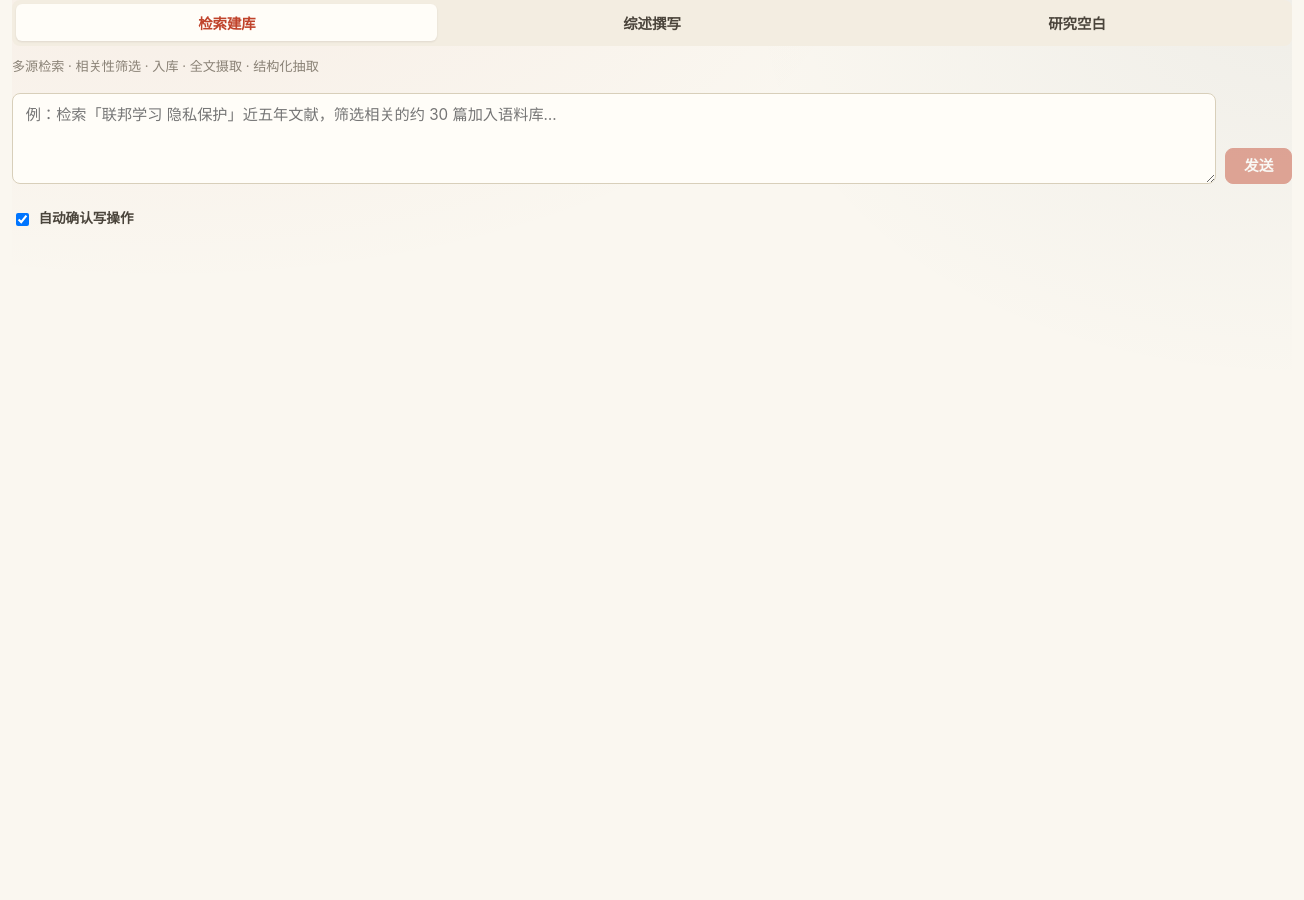
Test: AgentChat + RunTimeline › 提交后渲染运行开始卡片
The width and height of the screenshot is (1304, 900).
Type "分析 SLR 文献" into the text box named "Agent 指令输入" at (614, 138), box x1=12 y1=92 x2=1216 y2=184
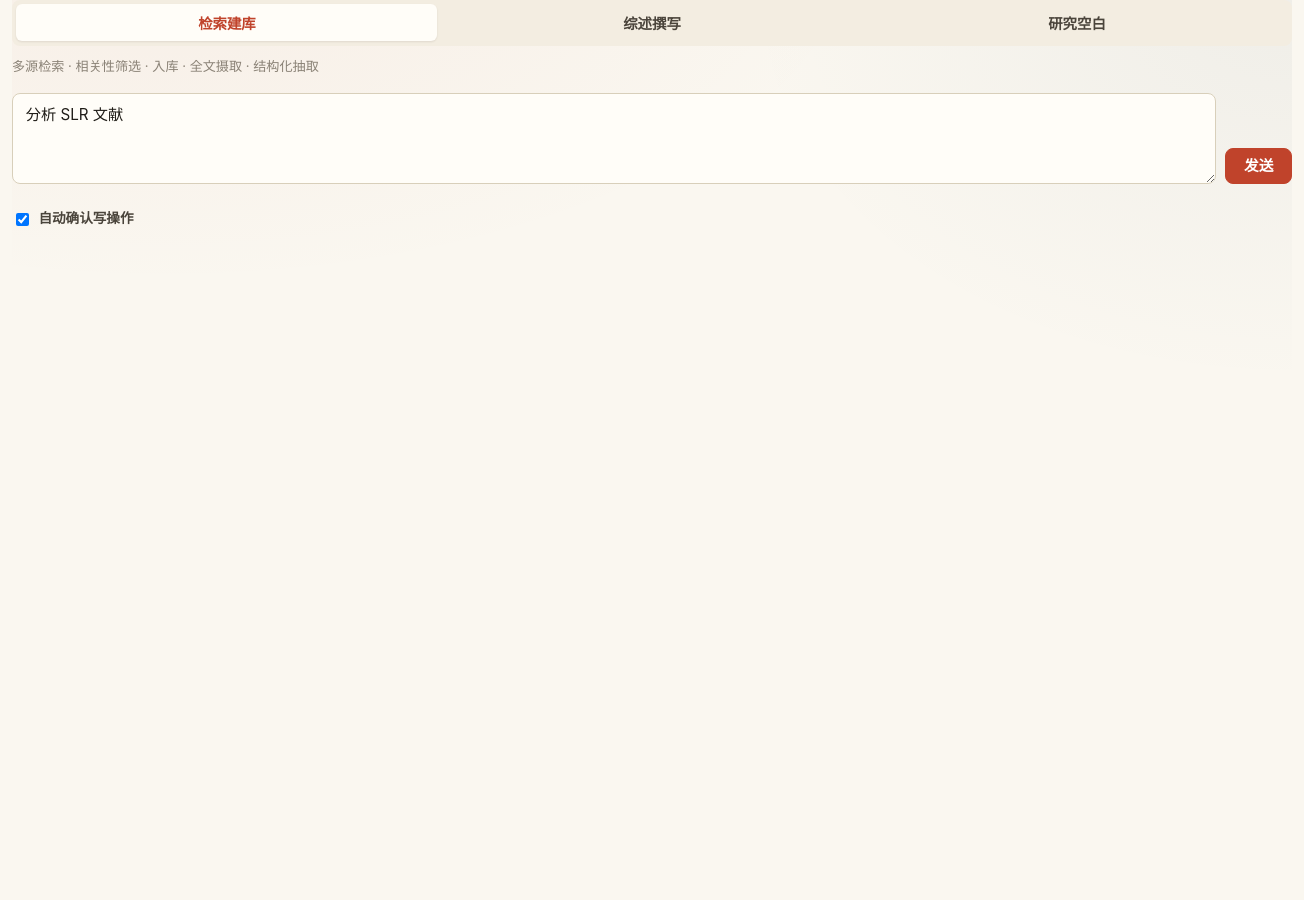
Click the button "发送" at (1259, 166), box x1=1225 y1=148 x2=1292 y2=184
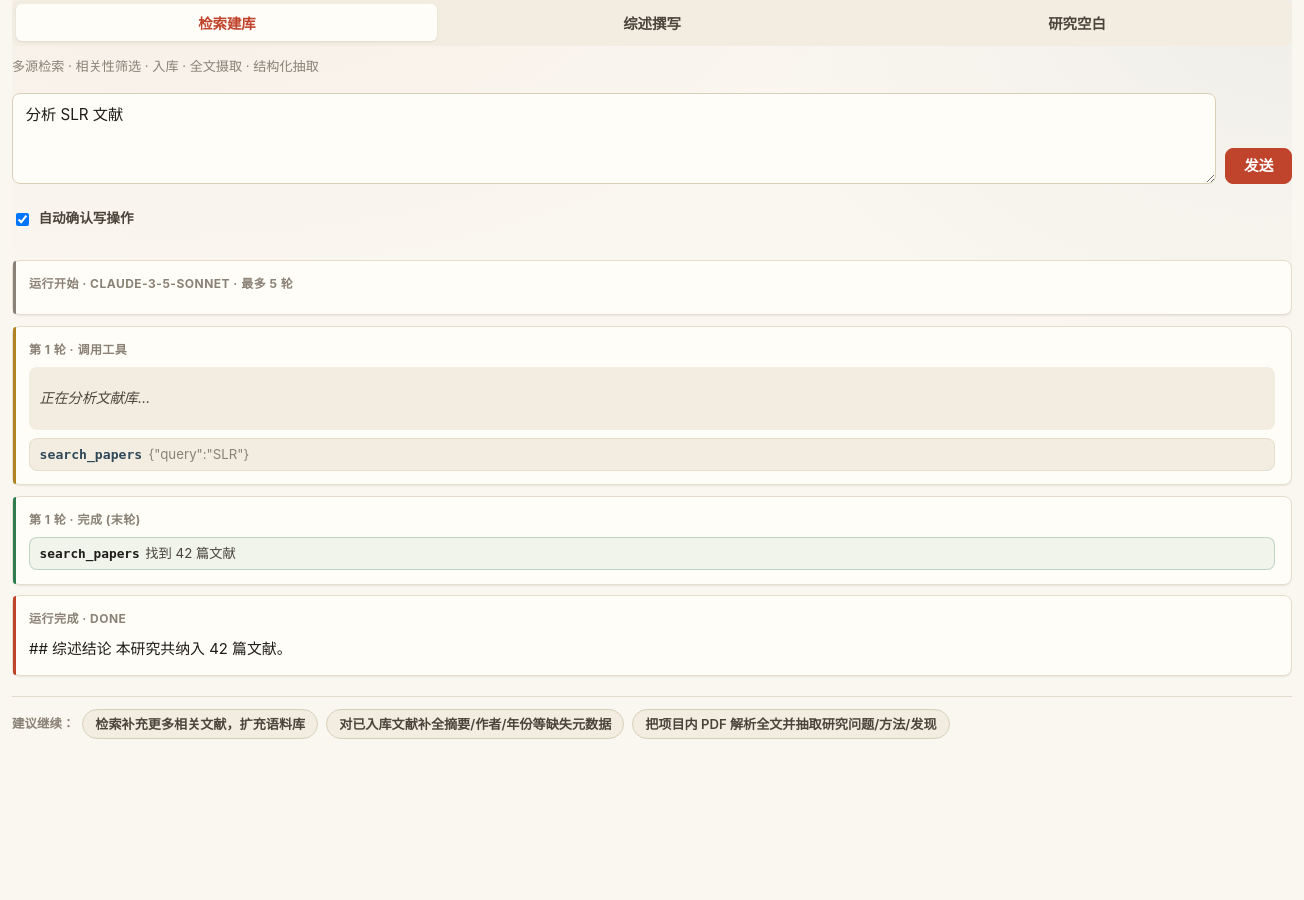
Expected: the text "运行开始 · claude-3-5-sonnet · 最多 5 轮" is shown, x1=29 y1=276 x2=293 y2=291
